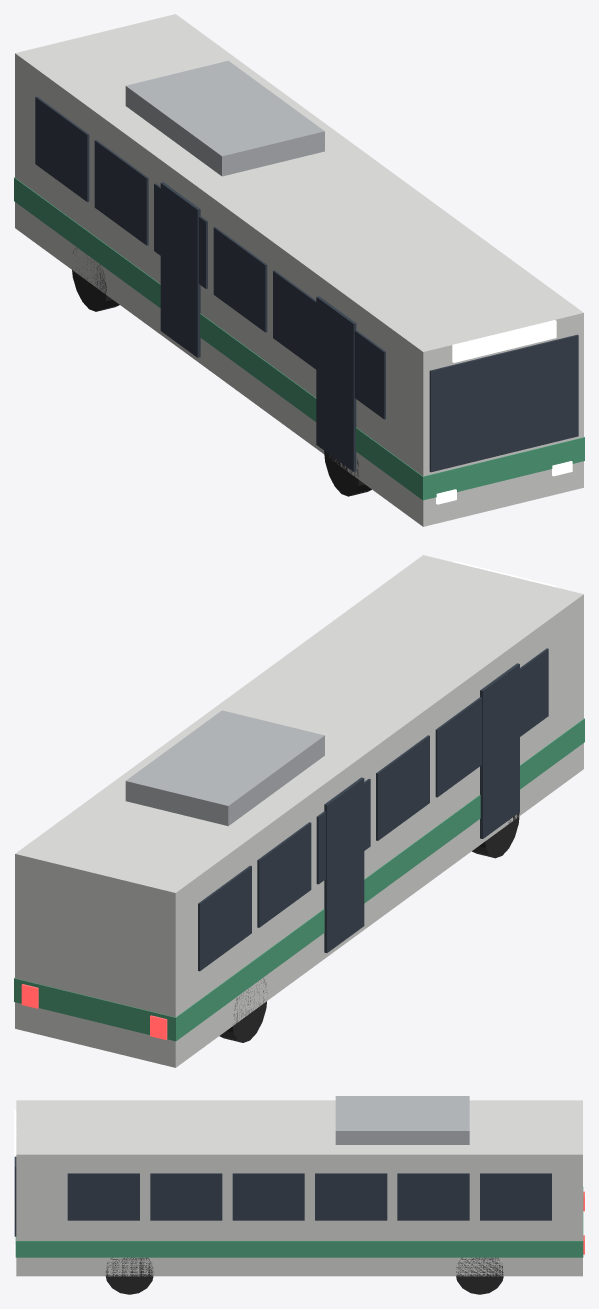
Rendered from city_bus.glb.
3 views of the same model, one above another, from view 1: azimuth 30°, elevation 25°; view 2: azimuth 150°, elevation 25°; view 3: azimuth 270°, elevation 25° (orthographic). The views are drawn at different scales.
Parts seen in each view (by area): view 1: city_bus; view 2: city_bus; view 3: city_bus.
Boxes of the visible parts, bbox=[...] form: city_bus: bbox=[14, 14, 584, 526]; city_bus: bbox=[14, 555, 584, 1067]; city_bus: bbox=[14, 1096, 584, 1294].
Bounding box in the file's own units: 2.57 × 3.3 × 11.09.
